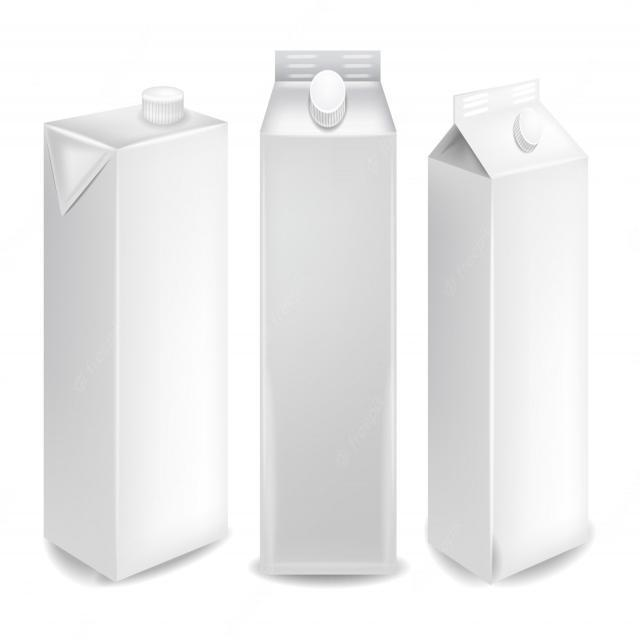Carton: (421, 71, 605, 600), (246, 33, 414, 590)
Tetra: (22, 89, 234, 596)
